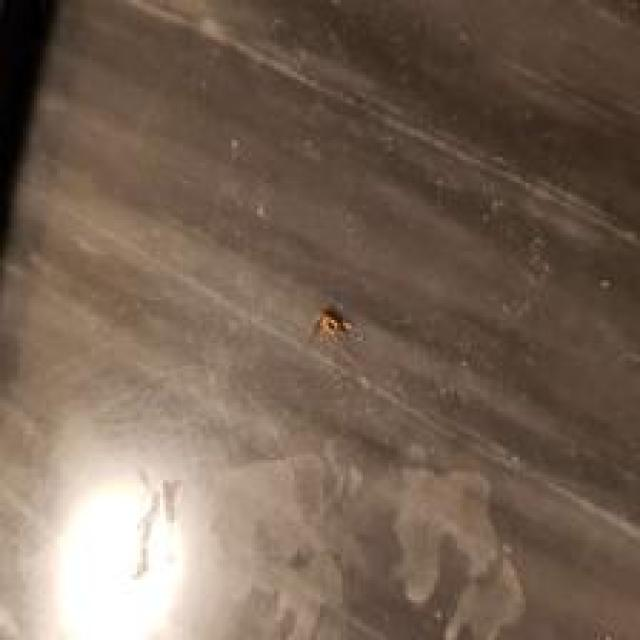Culex: (309, 304, 354, 344)
